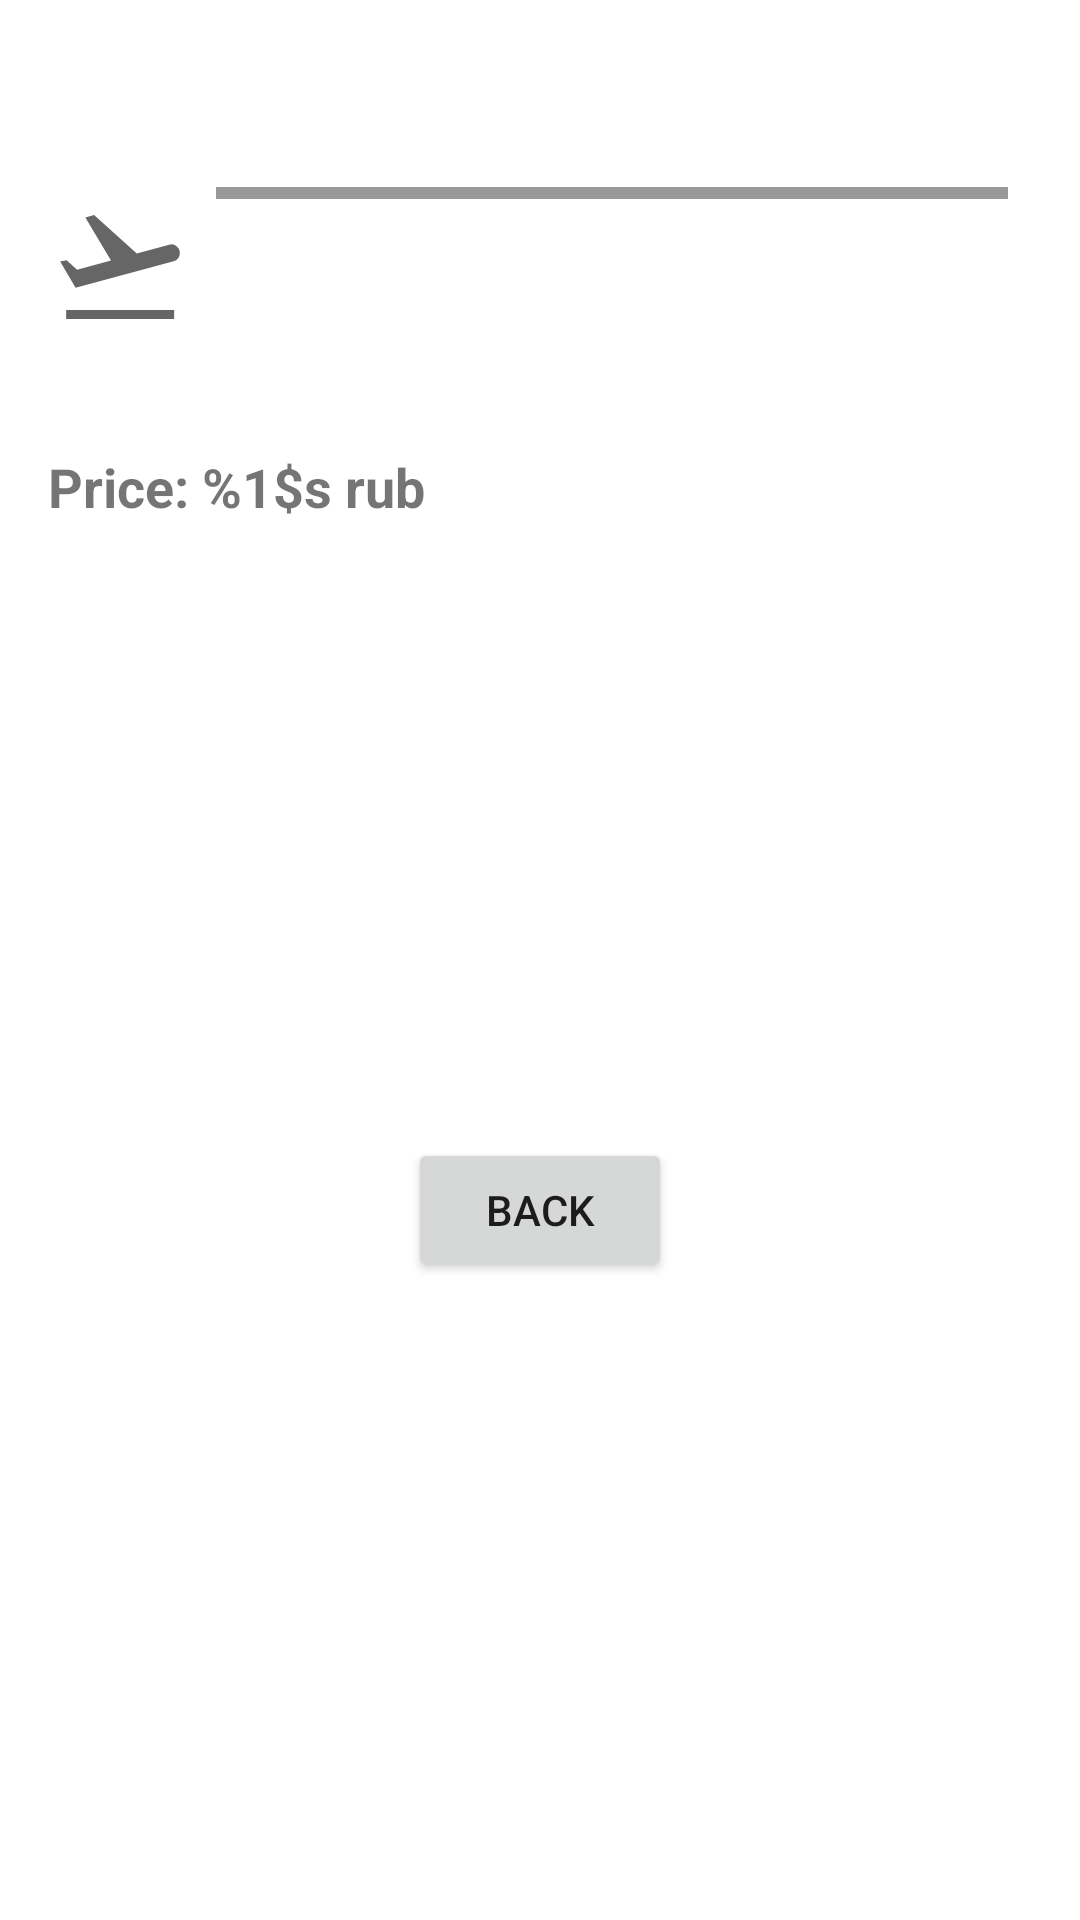

Point at icon controls on the screen. Image size 1080×1920, points as [x,y].
flight takeoff: [120,267]
